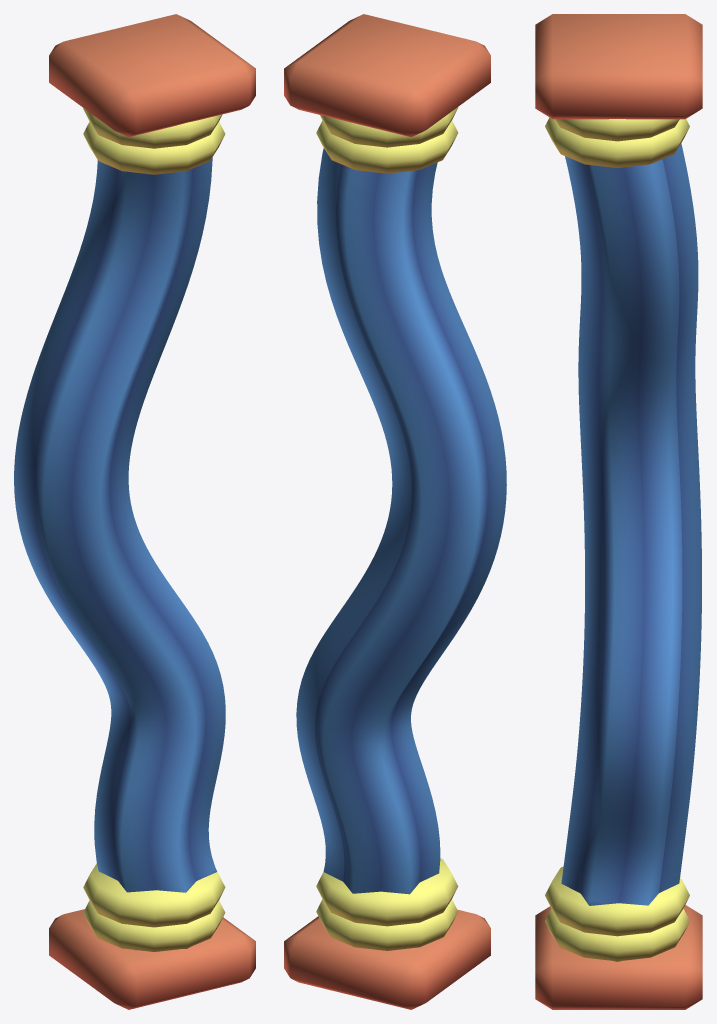
The model's file is Columna2.fbx.
3 renders of one model, left to right at view 1: azimuth 30°, elevation 25°; view 2: azimuth 150°, elevation 25°; view 3: azimuth 270°, elevation 25°, orthographic. The views are drawn at different scales.
Parts seen in each view (by area): view 1: Columna2; view 2: Columna2; view 3: Columna2.
Boxes of the visible parts, box(x1,y1,x2,y2) form: Columna2: box(14, 14, 255, 1009); Columna2: box(284, 14, 506, 1009); Columna2: box(535, 14, 702, 1009).
Bounding box in the file's own units: 82.18 × 389 × 62.7.
